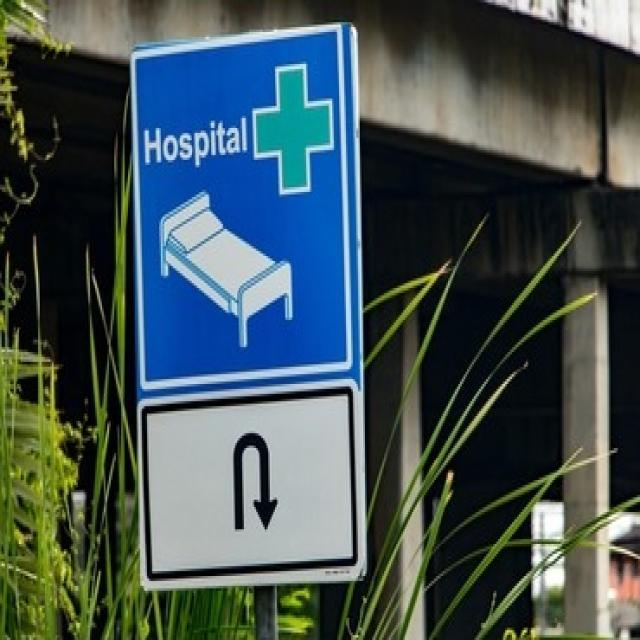hospital ahead: (130, 43, 361, 382)
